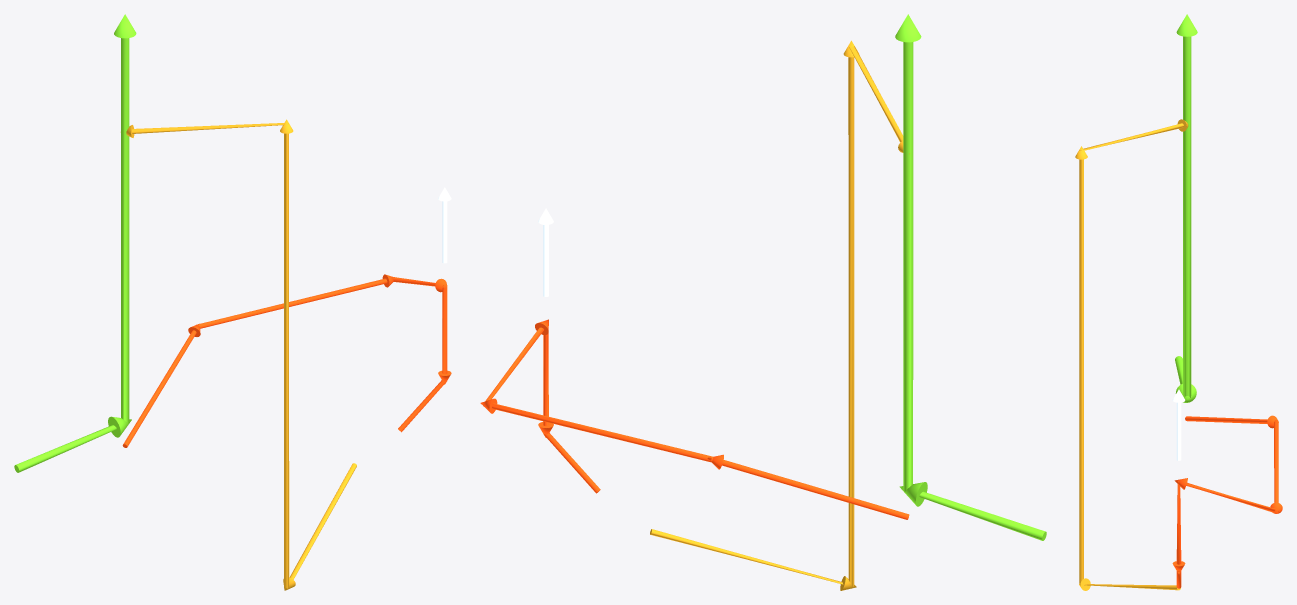
Rendered from gas_dehydration_unit_flow.glb.
The picture shows the model from 3 angles, left to right: view 1: azimuth 30°, elevation 25°; view 2: azimuth 150°, elevation 25°; view 3: azimuth 270°, elevation 25°; orthographic projection. The views are drawn at different scales.
Parts seen in each view (by area): view 1: gas, lean_glycol, rich_glycol; view 2: gas, lean_glycol, rich_glycol; view 3: gas, lean_glycol, rich_glycol, water_vapour.
Part boxes in pixels (bbox=[...]): gas: bbox=[14, 14, 136, 472]; lean_glycol: bbox=[120, 119, 356, 590]; rich_glycol: bbox=[122, 274, 451, 447]; gas: bbox=[895, 14, 1046, 540]; lean_glycol: bbox=[650, 40, 909, 590]; rich_glycol: bbox=[480, 319, 909, 519]; gas: bbox=[1175, 14, 1197, 402]; lean_glycol: bbox=[1075, 119, 1188, 590]; rich_glycol: bbox=[1172, 415, 1282, 588]; water_vapour: bbox=[1172, 389, 1185, 460].
Size of the model in its own units: 2.89 by 3.57 by 1.28.
